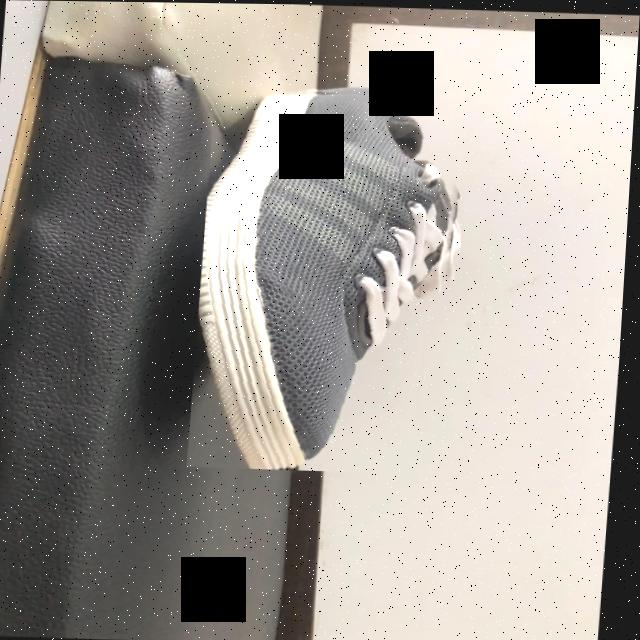shoe: (202, 92, 456, 469)
